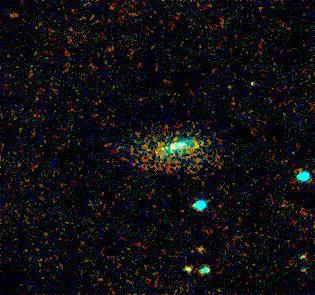star: (185, 234, 215, 264)
